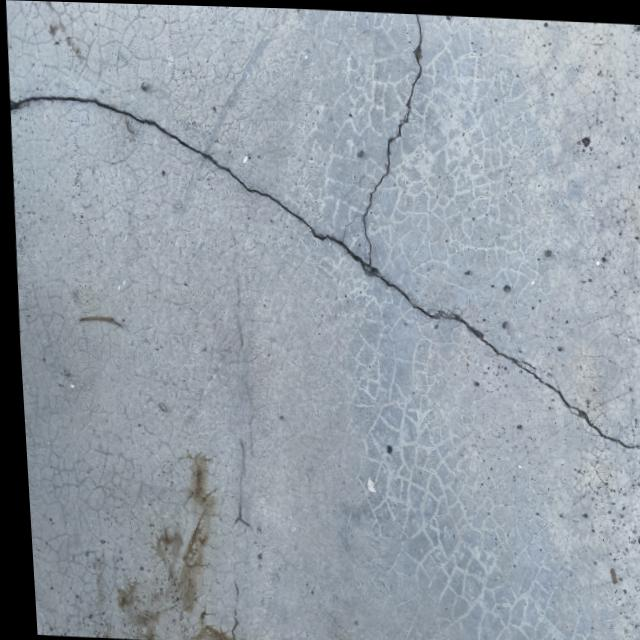Crack: (1, 0, 459, 276), (346, 272, 640, 461)
